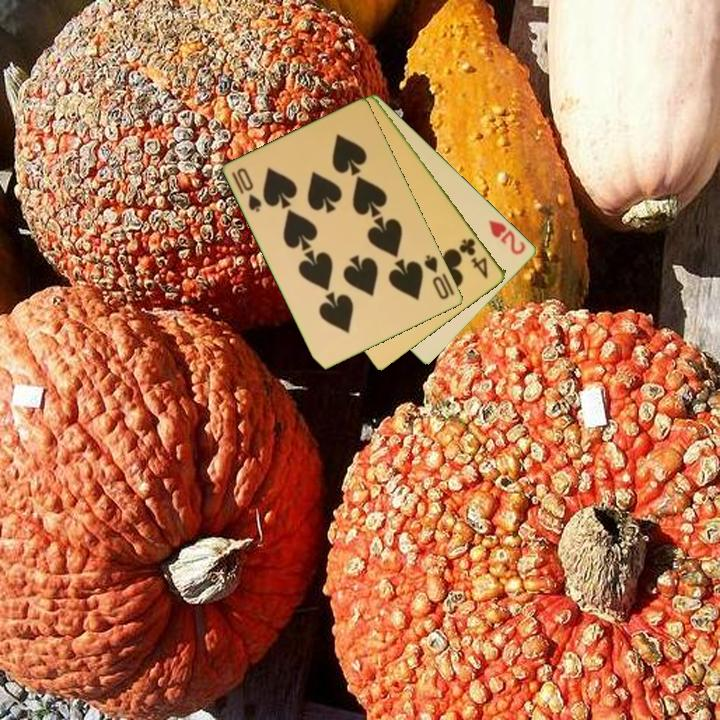10s: (421, 251, 458, 303), (228, 164, 265, 215)
2h: (485, 216, 529, 258)
4c: (456, 234, 491, 282)
